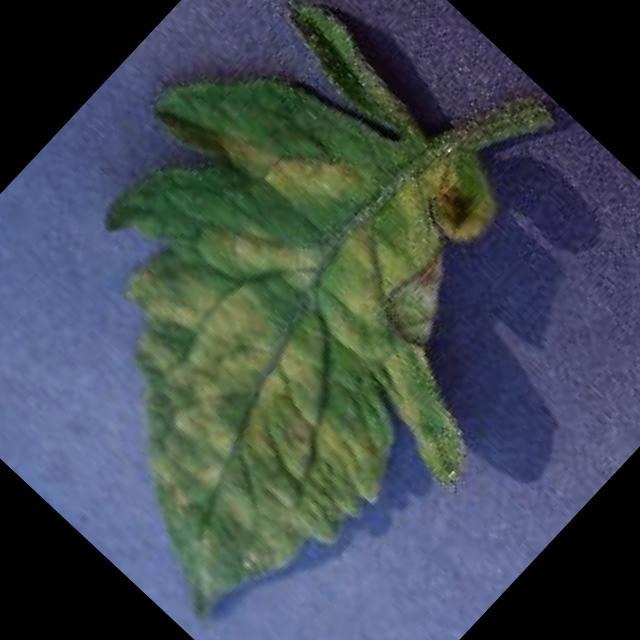Tomato mold leaf: (0, 0, 635, 640)
